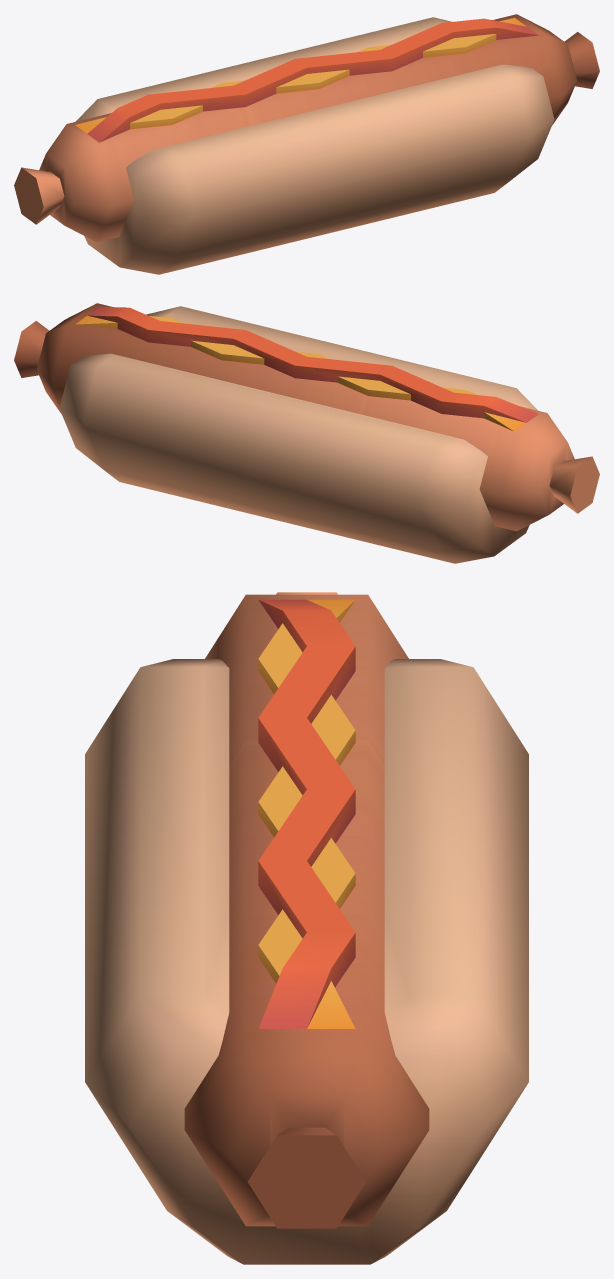
Rendered from hot_dog.glb.
3 renders of one model, top to bottom at view 1: azimuth 30°, elevation 25°; view 2: azimuth 150°, elevation 25°; view 3: azimuth 270°, elevation 25°, orthographic. The views are drawn at different scales.
Visible parts, largest first — view 1: hot-dog, sausage, sauce; view 2: hot-dog, sausage, sauce; view 3: hot-dog, sausage, sauce.
Boxes of the visible parts, <box> form: hot-dog: <box>75,17,554,274</box>; sausage: <box>14,14,599,242</box>; sauce: <box>75,17,538,142</box>; hot-dog: <box>59,306,538,563</box>; sausage: <box>14,303,599,531</box>; sauce: <box>75,306,538,431</box>; hot-dog: <box>85,659,528,1264</box>; sausage: <box>184,592,429,1228</box>; sauce: <box>258,599,355,1028</box>.
Bounding box in the file's own units: 0.18 × 0.0469 × 0.0622.
1 material, 1 textured.
